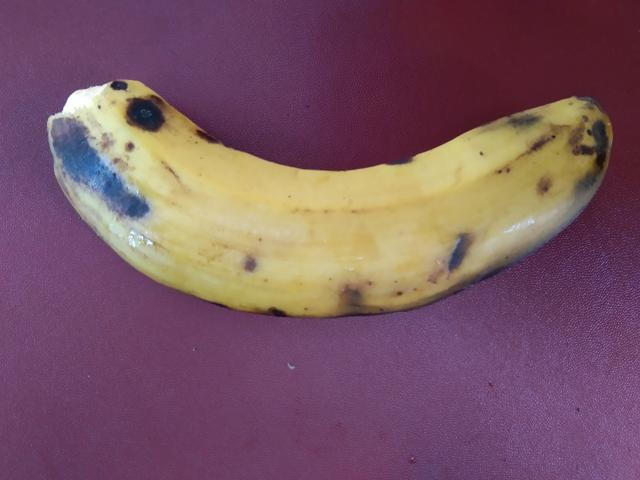ripe: (54, 52, 626, 339)
